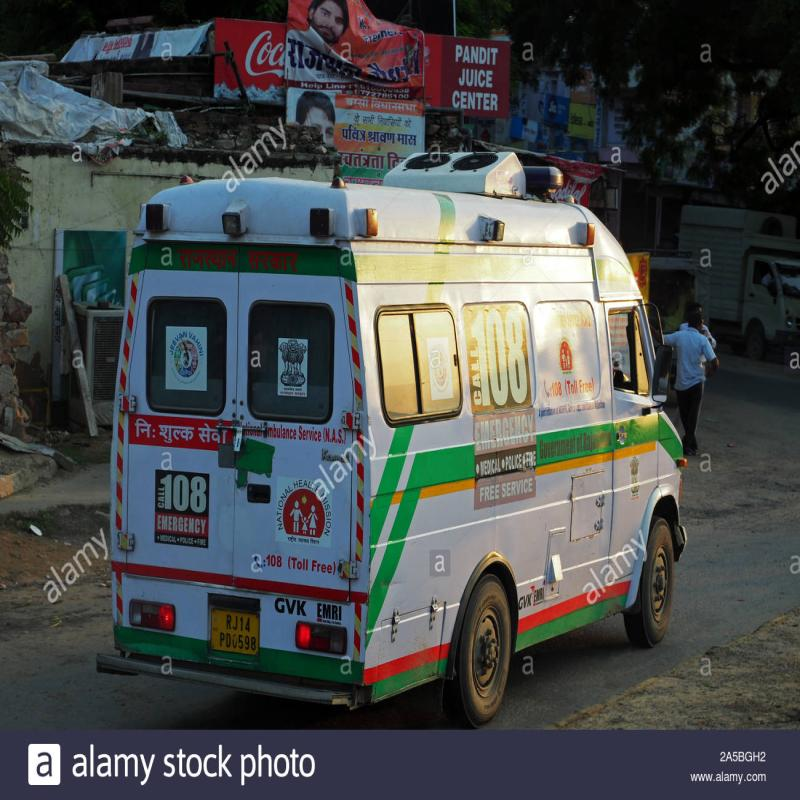ambulance: (111, 176, 679, 683)
